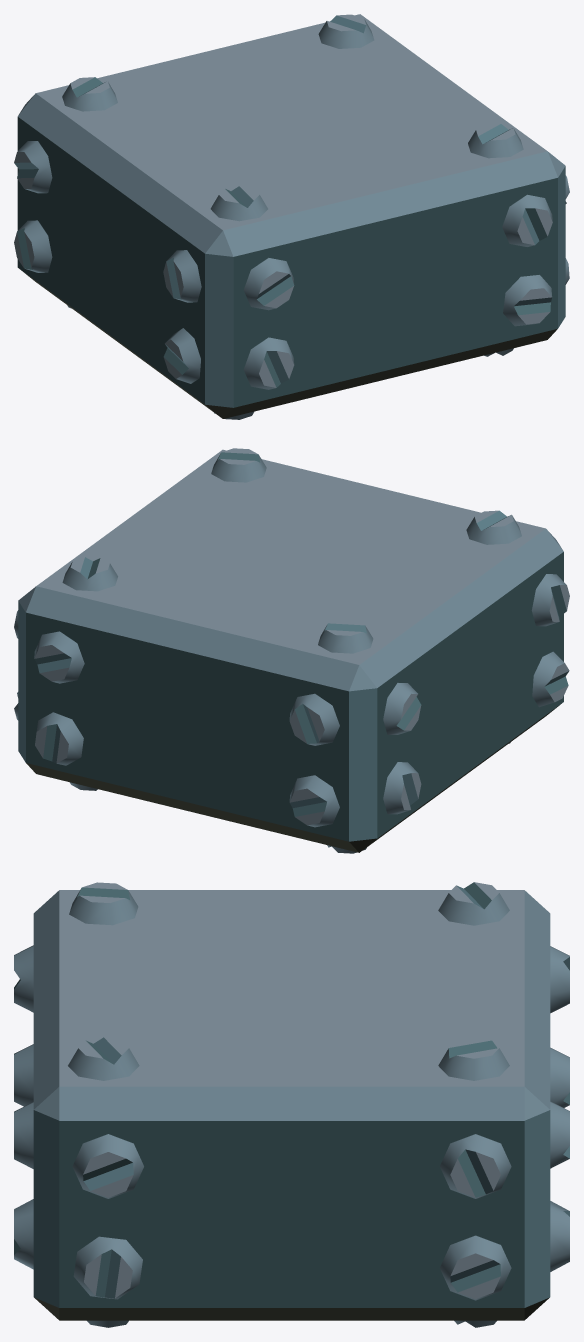
File: m_kub_metal_cubeSmall.FBX
The picture shows the model from 3 angles, top to bottom: view 1: azimuth 30°, elevation 25°; view 2: azimuth 150°, elevation 25°; view 3: azimuth 270°, elevation 25°; orthographic projection. The views are drawn at different scales.
Parts seen in each view (by area): view 1: m_kub_metal_cubeSmall; view 2: m_kub_metal_cubeSmall; view 3: m_kub_metal_cubeSmall.
Boxes of the visible parts, <box> form: m_kub_metal_cubeSmall: <box>14,14,569,419</box>; m_kub_metal_cubeSmall: <box>14,448,569,853</box>; m_kub_metal_cubeSmall: <box>14,882,569,1327</box>.
Bounding box in the file's own units: 2.15 × 1.15 × 2.15.
